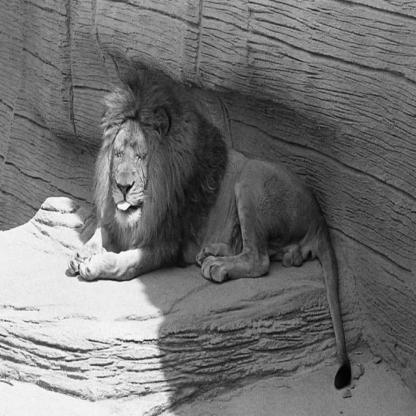lion: (97, 75, 203, 271)
